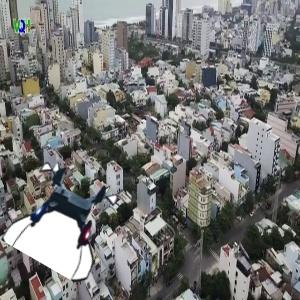drone: (14, 166, 118, 270)
